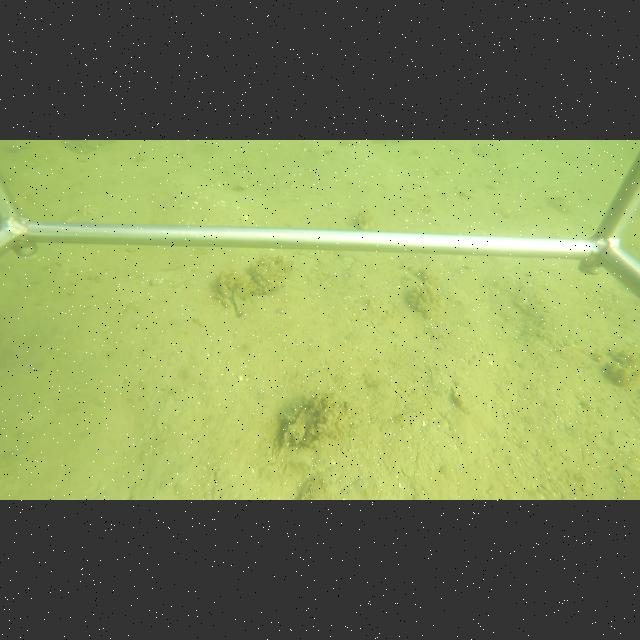Oyster-Closed: (279, 400, 319, 446), (230, 288, 249, 320)
